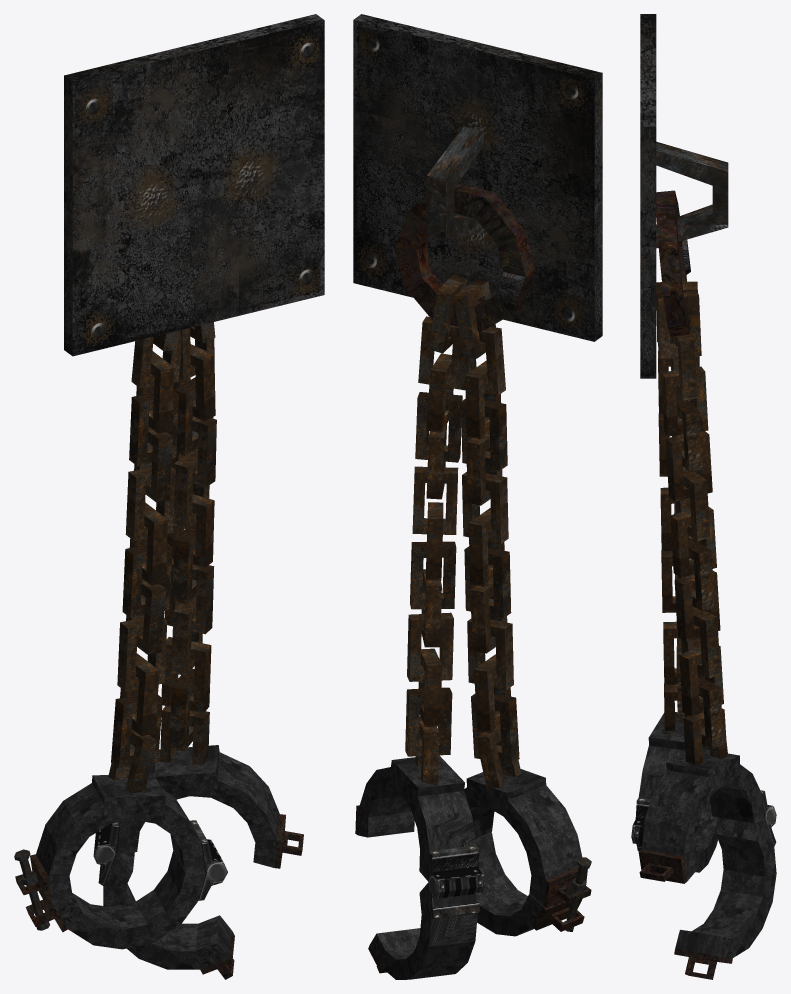
The model's file is Manacles.fbx.
3 views of the same model, side by side, from view 1: azimuth 30°, elevation 25°; view 2: azimuth 150°, elevation 25°; view 3: azimuth 270°, elevation 25° (orthographic). The views are drawn at different scales.
Visible parts, largest first — view 1: Manacles:Mesh; view 2: Manacles:Mesh; view 3: Manacles:Mesh.
Part boxes in pixels (left/top/right/bottom): Manacles:Mesh: left=14, top=14, right=324, bottom=979; Manacles:Mesh: left=353, top=14, right=602, bottom=979; Manacles:Mesh: left=631, top=14, right=776, bottom=979.
Bounding box in the file's own units: 0.2288 × 0.7654 × 0.1143.
